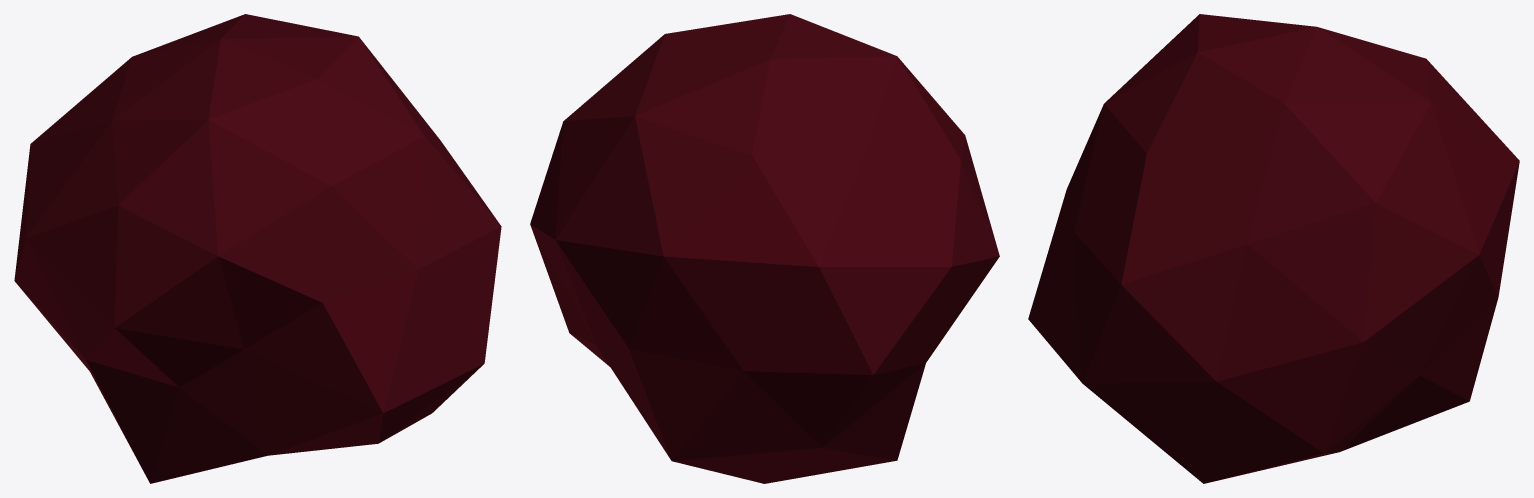
Rendered from meteorite1.fbx.
3 views of the same model, side by side, from view 1: azimuth 30°, elevation 25°; view 2: azimuth 150°, elevation 25°; view 3: azimuth 270°, elevation 25° (orthographic). The views are drawn at different scales.
Parts seen in each view (by area): view 1: Icosphere; view 2: Icosphere; view 3: Icosphere.
Boxes of the visible parts, x1,y1,x2,y2 form: Icosphere: [14, 14, 501, 483]; Icosphere: [530, 14, 999, 483]; Icosphere: [1028, 14, 1519, 483].
Size of the model in its own units: 144 by 139 by 147.
